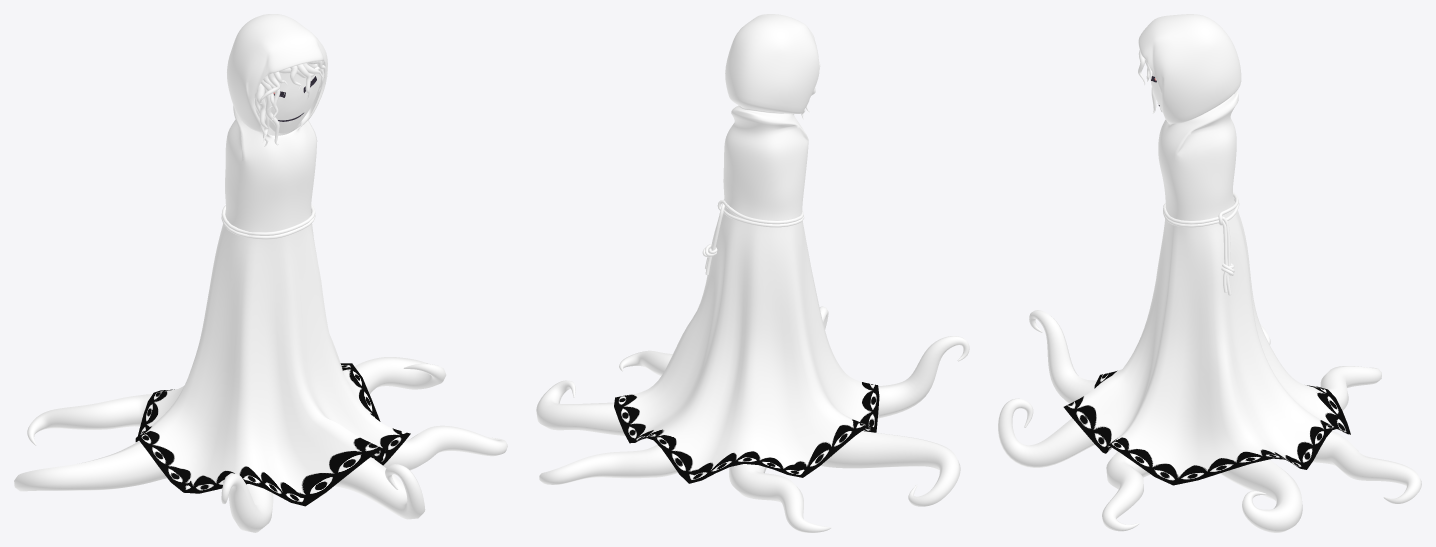
The model's file is Hastur.glb.
The picture shows the model from 3 angles, left to right: view 1: azimuth 30°, elevation 25°; view 2: azimuth 150°, elevation 25°; view 3: azimuth 270°, elevation 25°; orthographic projection. The views are drawn at different scales.
Visible parts, largest first — view 1: Cloak, Tentacule, Tentacule.001, Mask, Rope; view 2: Cloak, Tentacule, Rope; view 3: Cloak, Tentacule, Rope.
Part boxes in pixels (left/top/right/bottom): Cloak: left=135, top=14, right=410, bottom=506; Tentacule: left=14, top=357, right=507, bottom=532; Tentacule.001: left=254, top=61, right=325, bottom=146; Mask: left=264, top=73, right=320, bottom=133; Rope: left=221, top=204, right=315, bottom=239; Cloak: left=614, top=14, right=879, bottom=483; Tentacule: left=536, top=306, right=969, bottom=532; Rope: left=702, top=199, right=804, bottom=275; Cloak: left=1063, top=14, right=1350, bottom=485; Tentacule: left=998, top=310, right=1421, bottom=532; Rope: left=1163, top=192, right=1239, bottom=295.
Bounding box in the file's own units: 4.12 × 4.08 × 3.67.
7 materials, 1 textured.
